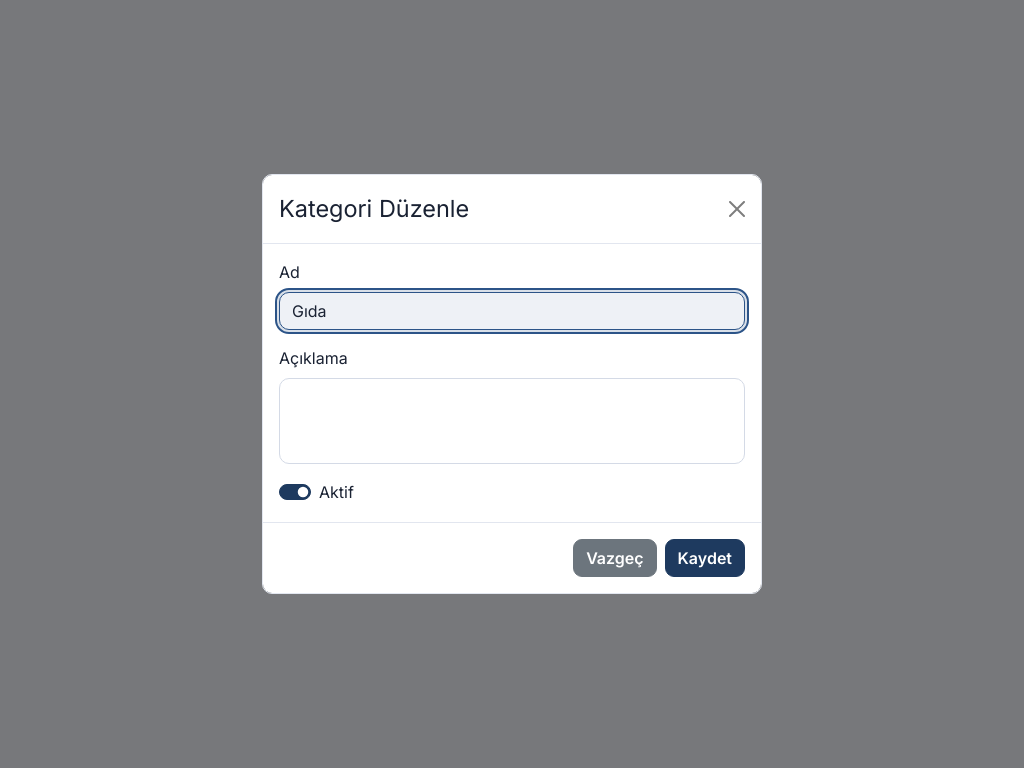
CategoryFormModal — sürüm çakışması (D10) › ad çakışması 409 u hâlâ ad alanına yazılıyor
This screenshot has width=1024, height=768.
Click the button "Kaydet". click: (705, 558)
box: [665,539,745,577]
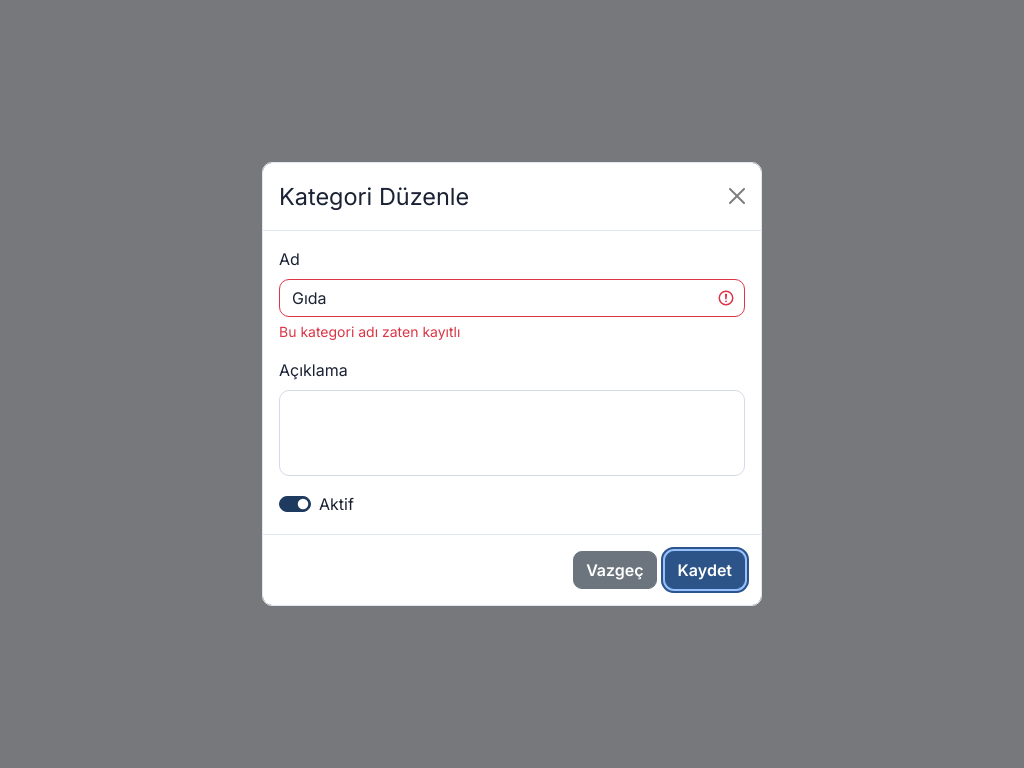
Expected: the text "Bu kategori adı zaten kayıtlı" is shown, [279,323,460,340]
